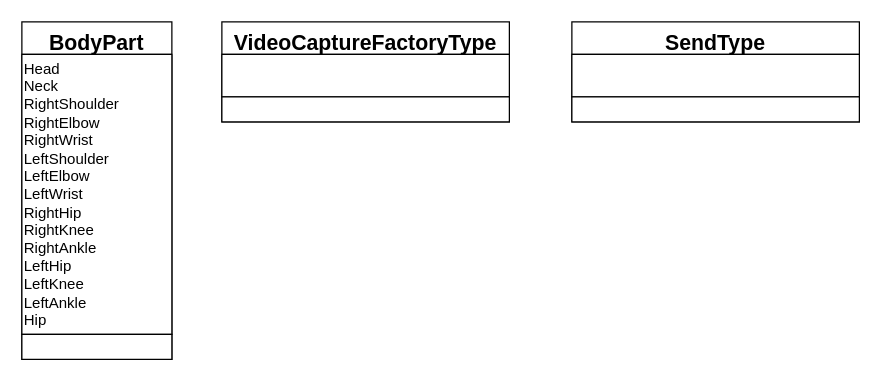
The diagram is 881 pixels wide and 381 high, and some of its shapes have lost their labels. The centre of each missing label's shape, as x and y in pixels:
"File Camera" goes at (365,75).
"Teams Database" goes at (715,75).
